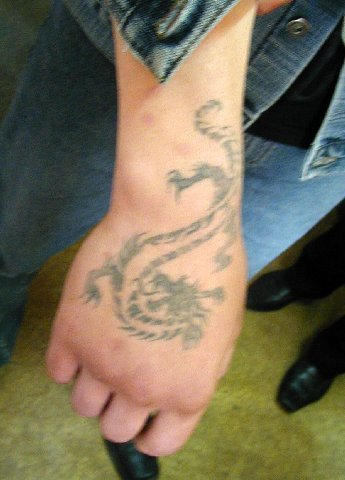tatu6_drakon: (76, 87, 252, 364)
